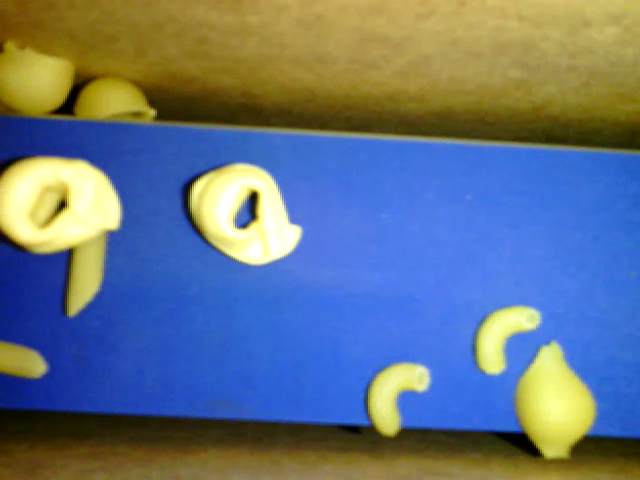elbow: (474, 302, 539, 374), (367, 360, 429, 433)
penne: (68, 207, 113, 314), (1, 337, 52, 381)
shell: (511, 336, 598, 464), (1, 37, 76, 113), (73, 72, 157, 121)
tortellini: (1, 152, 127, 254), (190, 164, 301, 265)
